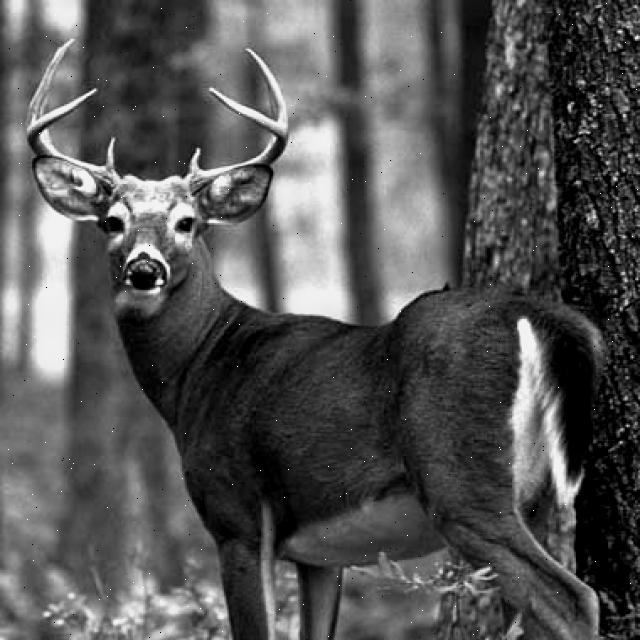deer: (16, 20, 310, 326)
